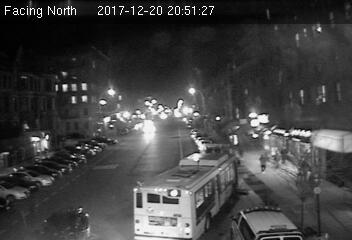bus: (132, 150, 239, 240)
car: (39, 206, 89, 240)
pedestrian: (259, 153, 268, 172)
police: (231, 204, 301, 240)
